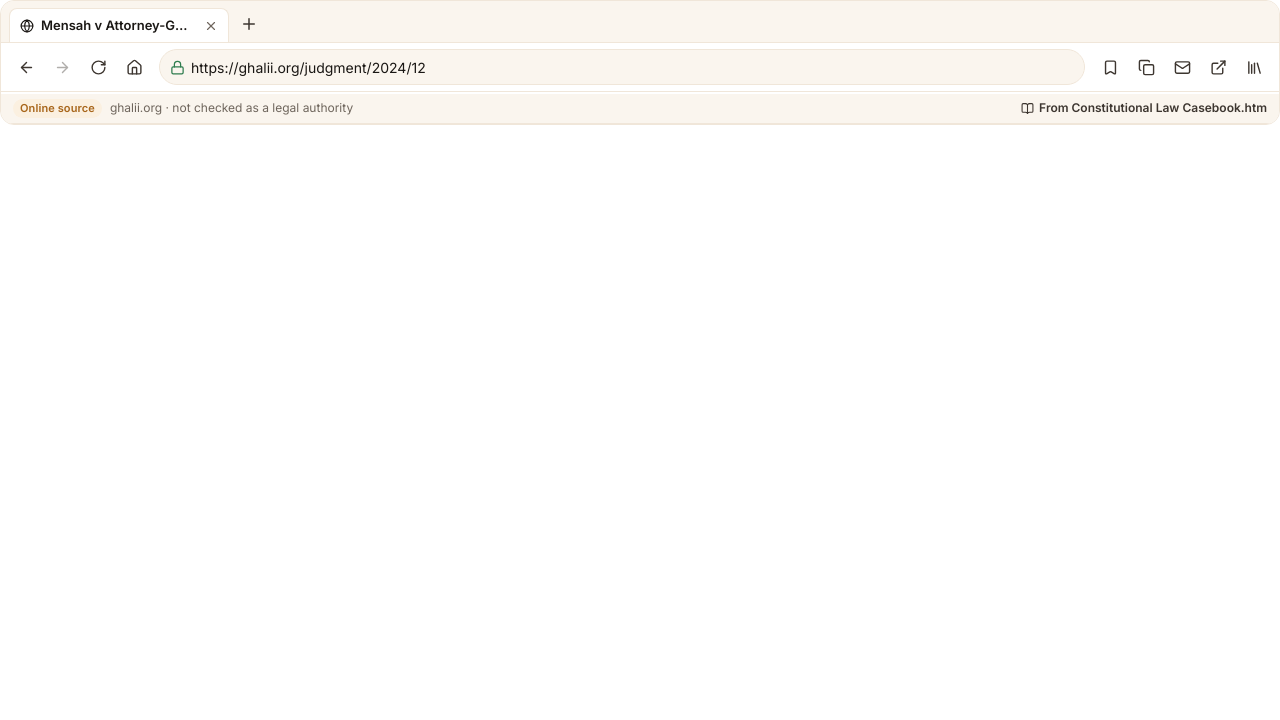
Scenario: WebBrowser › marks saved references that point to the same page
Click the button named "Saved references and recent pages". click: click(1254, 67)
box: [1237, 50, 1271, 84]
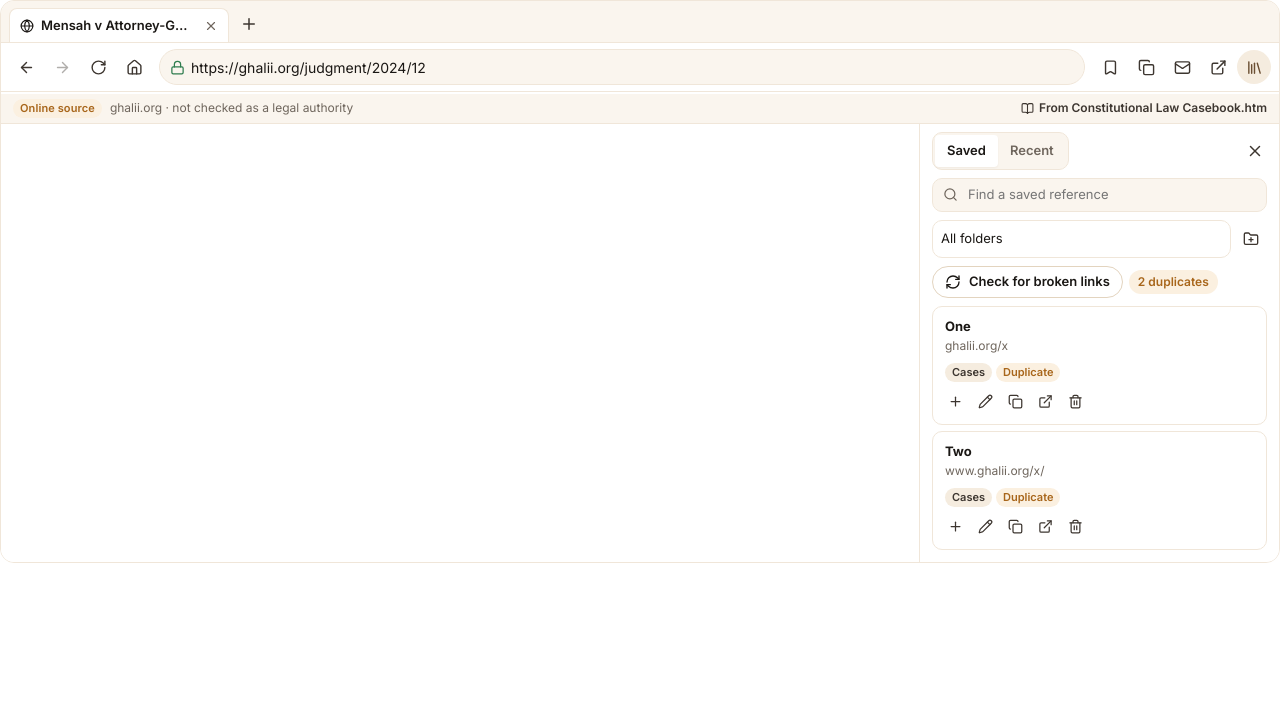
Expected: the text "2 duplicates" is shown, [1129, 270, 1218, 294]
